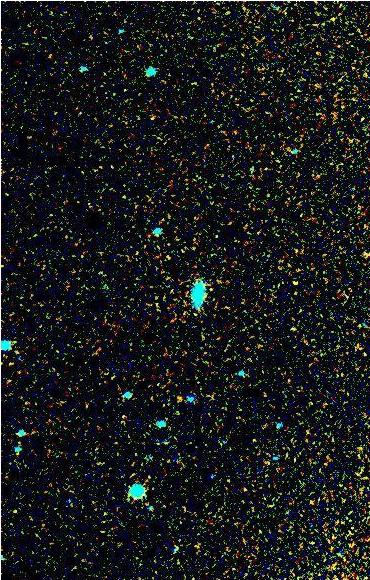star: (164, 382, 194, 412)
